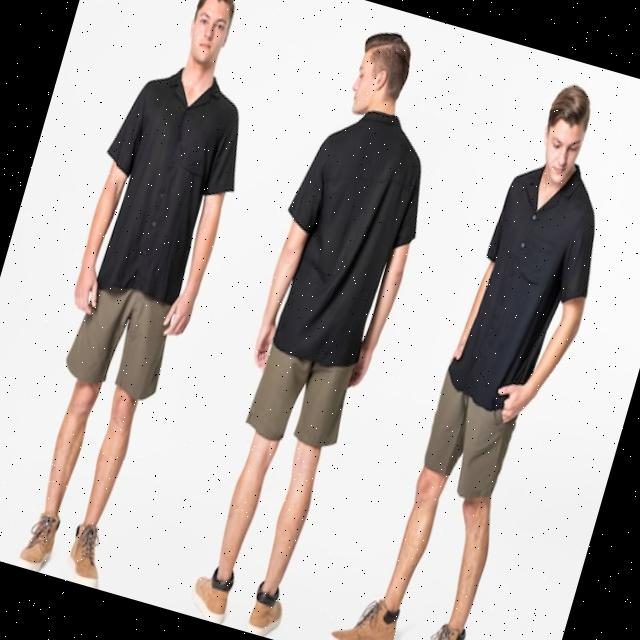Person: (171, 15, 467, 640), (323, 59, 640, 640), (0, 0, 288, 594)
